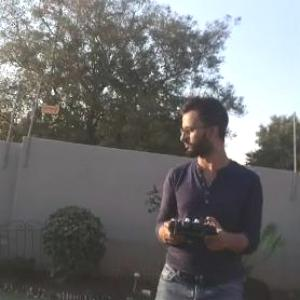follow: (153, 88, 276, 299)
